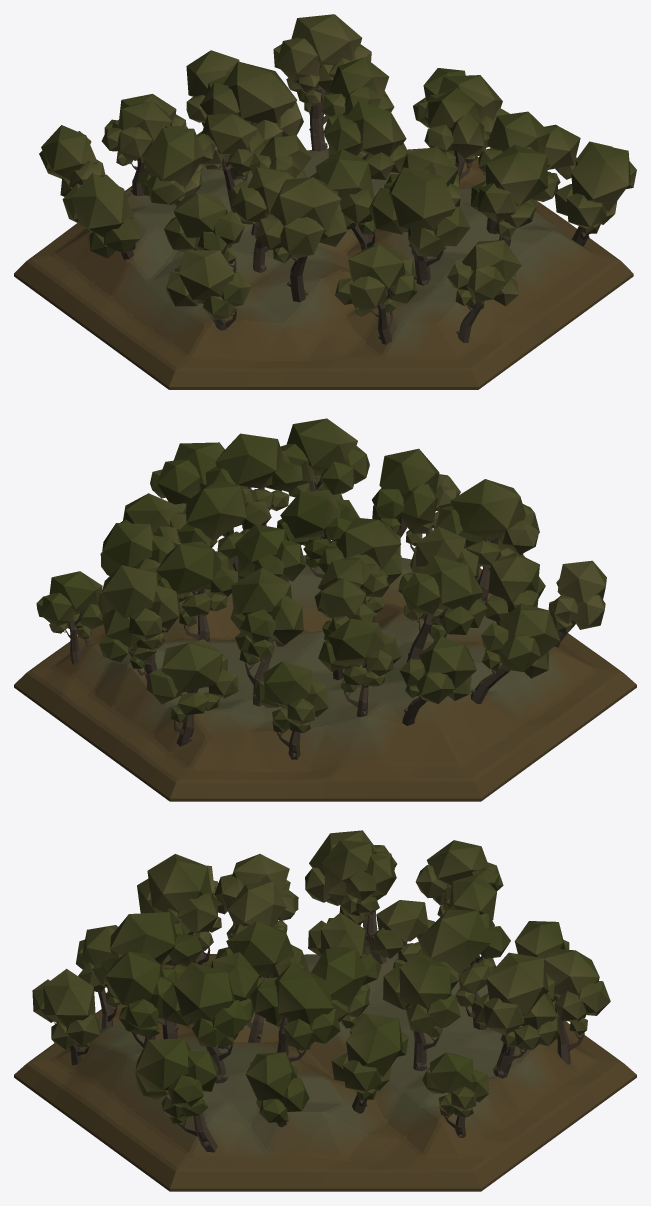
File: tropicalSeasonalForest.glb
The picture shows the model from 3 angles, top to bottom: view 1: azimuth 30°, elevation 25°; view 2: azimuth 150°, elevation 25°; view 3: azimuth 270°, elevation 25°; orthographic projection.
Parts seen in each view (by area): view 1: tropicalseasonalforest; view 2: tropicalseasonalforest; view 3: tropicalseasonalforest.
Part boxes in pixels (<box>): tropicalseasonalforest: <box>14,14,636,389</box>; tropicalseasonalforest: <box>14,418,636,801</box>; tropicalseasonalforest: <box>14,830,636,1191</box>.
Bounding box in the file's own units: 1.78 × 0.6203 × 2.
